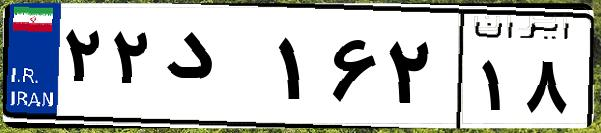1: (270, 28, 330, 110), (475, 38, 525, 113)
2: (385, 28, 445, 110), (57, 26, 110, 100), (110, 28, 158, 98)
6: (330, 28, 385, 110)
8: (525, 38, 570, 115)
د: (158, 20, 270, 120)
